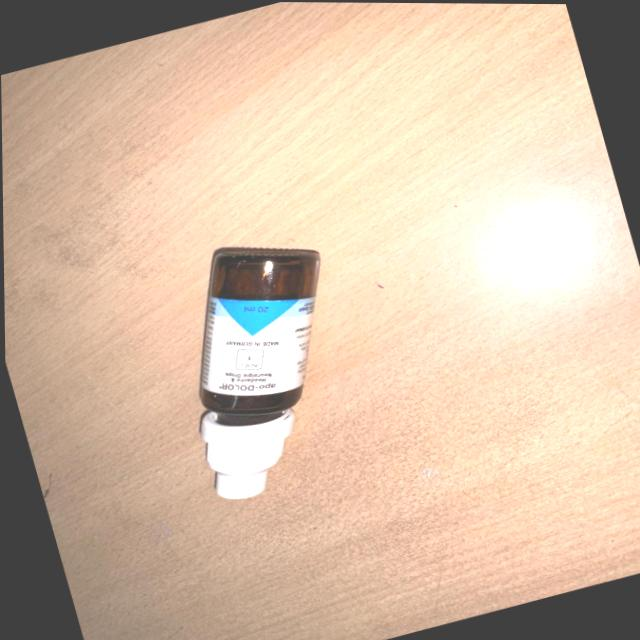medicine: (181, 244, 326, 499)
